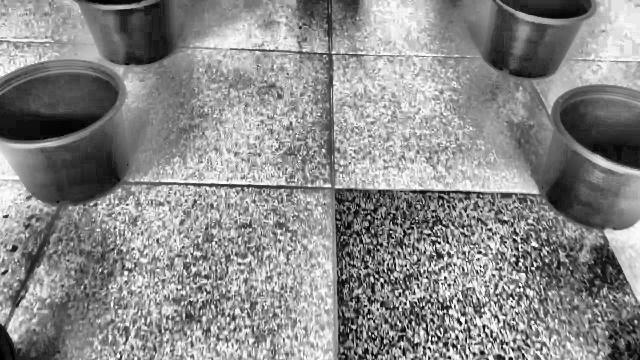pot: (0, 60, 132, 205), (540, 85, 640, 232)
